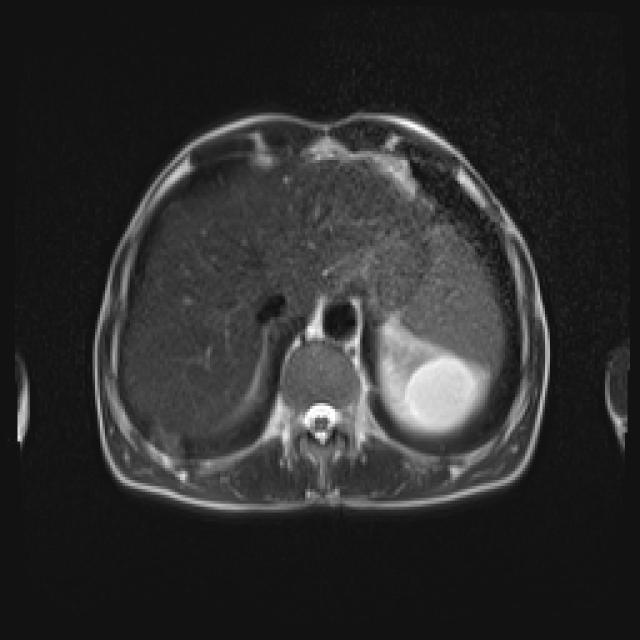sol: (395, 339, 478, 436)
